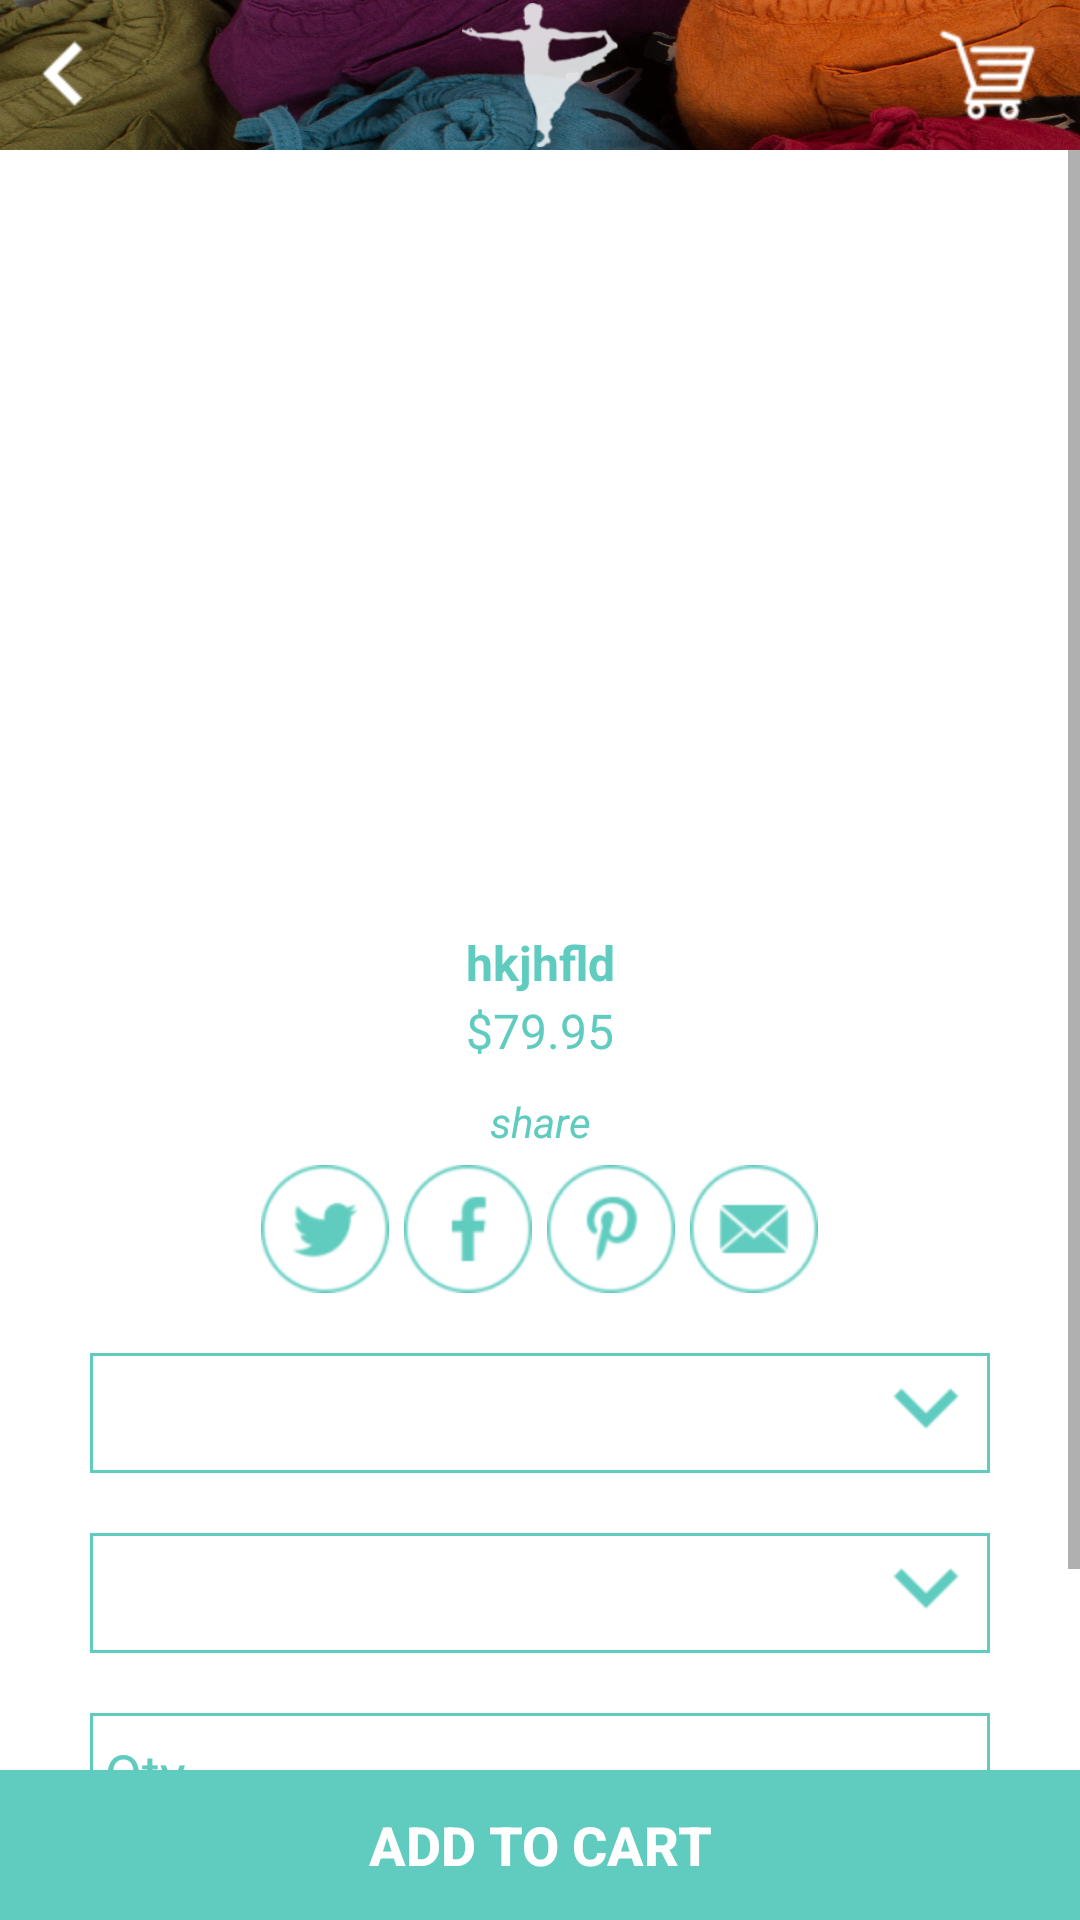

Where to tap for icons on this 1080 × 1920 app screen, as [x,y]:
addcart: [987,75]
back arrow: [64,75]
mail cyan: [754,1229]
